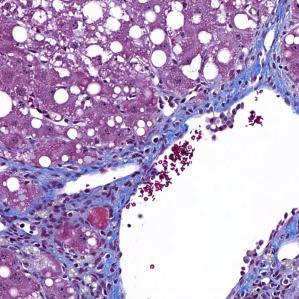fibrosis: (25, 167, 122, 238), (32, 247, 119, 299), (151, 94, 217, 134), (239, 54, 248, 62)
